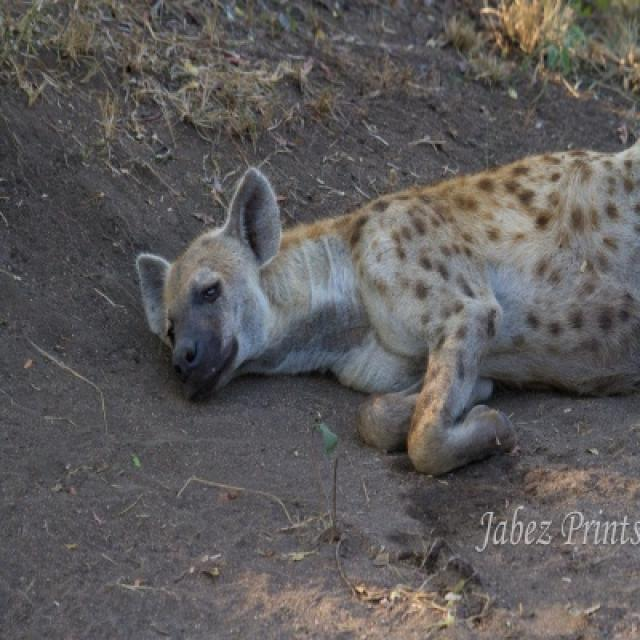hyena: (138, 141, 638, 472)
